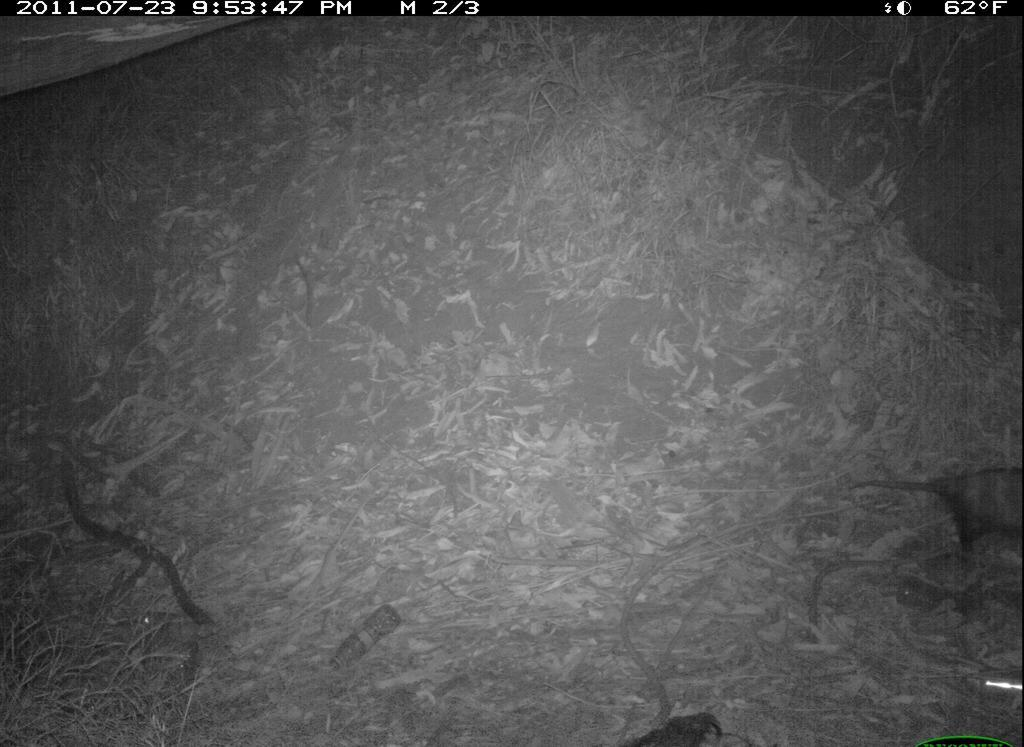opossum: (847, 447, 1023, 560)
